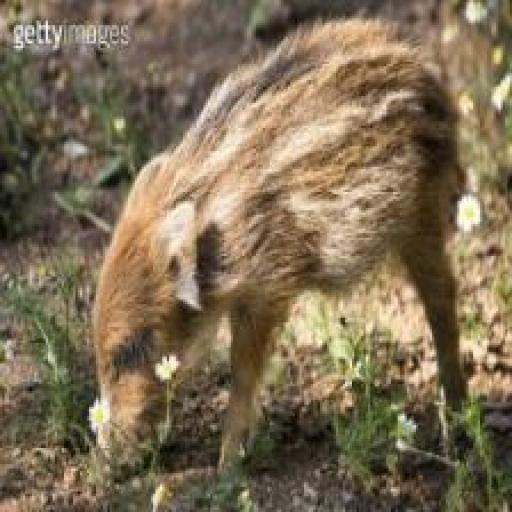Pig: (89, 4, 495, 511)
